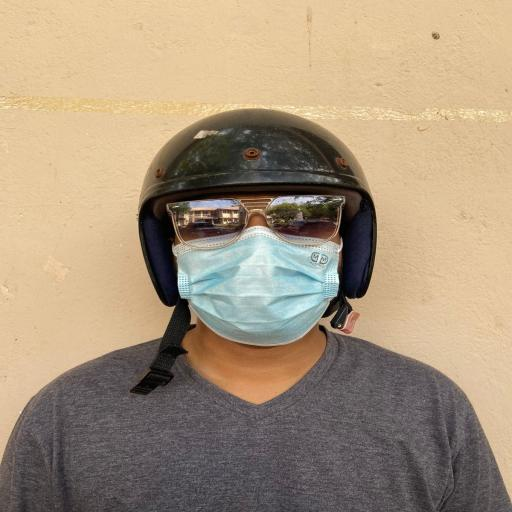with helmet: (133, 108, 377, 312)
